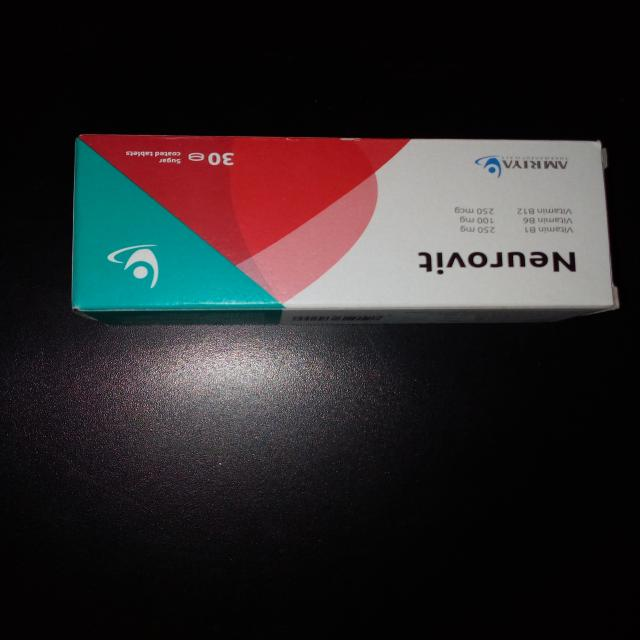Medicine: (70, 128, 620, 326)
